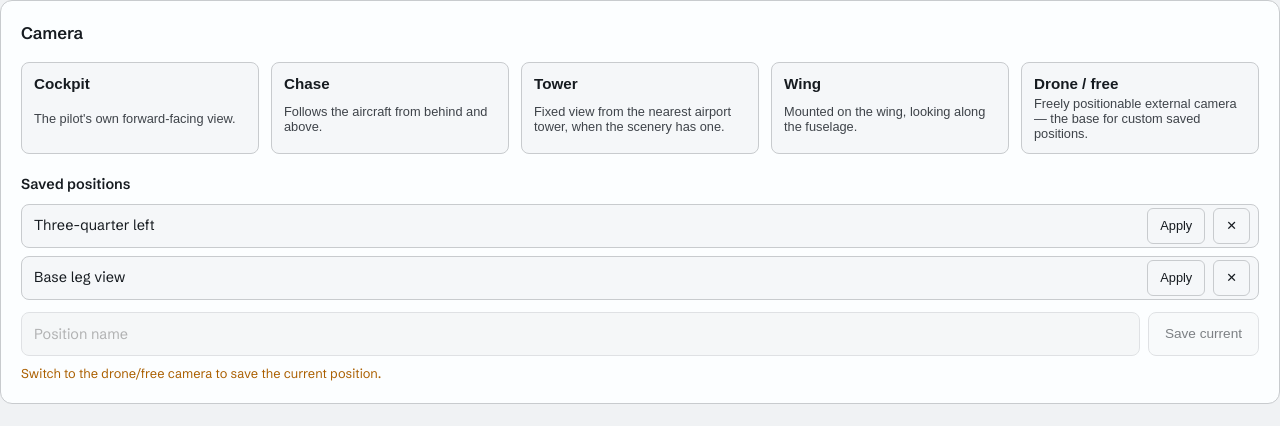
<CameraPanel /> › states a 404 on apply as an unknown id and re-reads the list
This screenshot has width=1280, height=426.
Click the button with aria-label "Apply Base leg view" at (1176, 278), box x1=1147 y1=260 x2=1205 y2=296
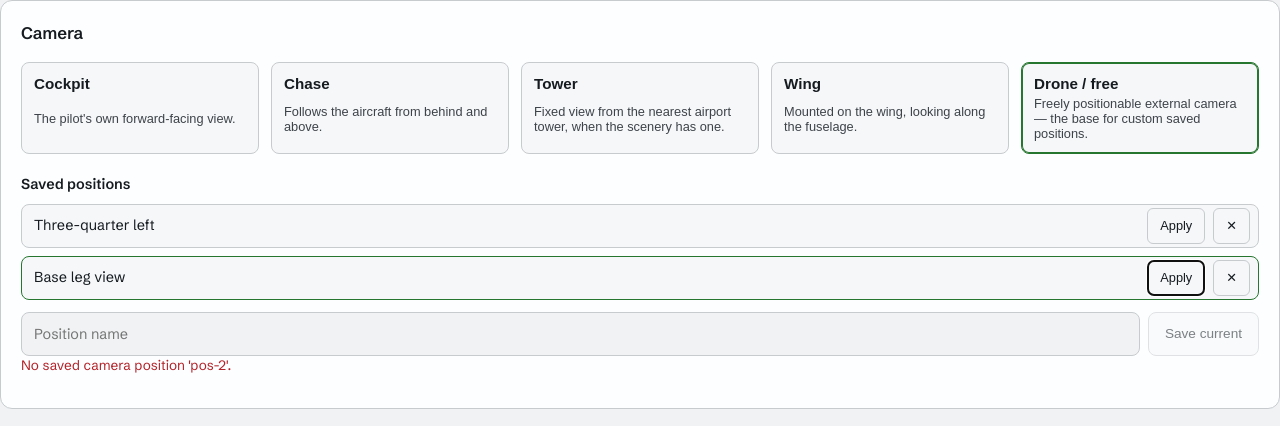
expect the message reads "No saved camera position 'pos-2'.": met, box x1=21 y1=357 x2=231 y2=374
